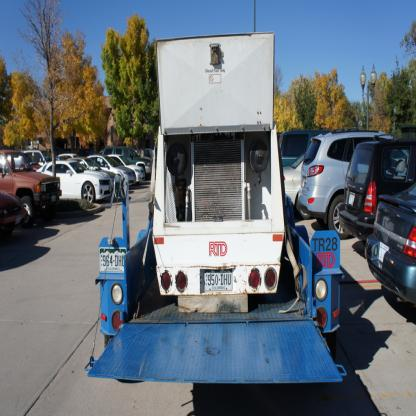Car: (1, 149, 152, 238), (298, 132, 390, 239), (339, 137, 416, 244), (364, 184, 416, 307), (283, 156, 314, 219), (281, 130, 309, 164)
